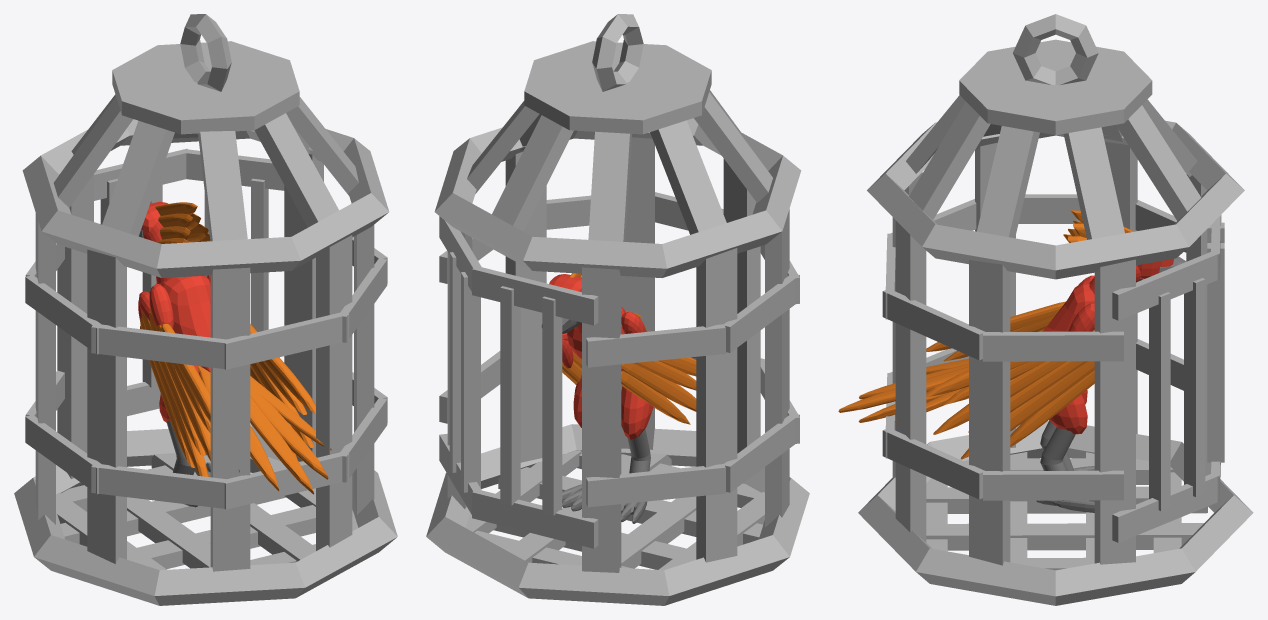
The model's file is phoenix - samuelgragg.fbx.
The picture shows the model from 3 angles, left to right: view 1: azimuth 30°, elevation 25°; view 2: azimuth 150°, elevation 25°; view 3: azimuth 270°, elevation 25°; orthographic projection.
Parts seen in each view (by area): view 1: Cube.017, Cube.043, Cube.056, Cube.059, Cube.061, Cube.055, Cube.057, Cube.060, Cube.063, Cube.062, Cube.049, Cube.058 (+3 smaller); view 2: Cube.017, Cube.047, Cube.058, Cube.060, Cube.048, Cube.062, Cylinder.002; view 3: Cube.017, Cube.059, Cube.060, Cube.058, Cylinder.002, Cube.061, Cube.043, Cube.062, Cube.047, Cube.055, Cube.063, Cube.056 (+3 smaller).
Boxes of the visible parts, bbox=[...] form: Cube.017: bbox=[14, 14, 397, 605]; Cube.043: bbox=[158, 275, 210, 372]; Cube.056: bbox=[197, 366, 328, 491]; Cube.059: bbox=[161, 323, 315, 422]; Cube.061: bbox=[149, 309, 314, 460]; Cube.055: bbox=[250, 396, 313, 494]; Cube.057: bbox=[200, 368, 331, 472]; Cube.060: bbox=[140, 314, 297, 476]; Cube.063: bbox=[157, 325, 306, 432]; Cube.062: bbox=[142, 313, 291, 456]; Cube.049: bbox=[149, 275, 210, 328]; Cube.058: bbox=[140, 325, 194, 467]; Cube.017: bbox=[426, 14, 809, 605]; Cube.047: bbox=[573, 375, 653, 439]; Cube.058: bbox=[562, 361, 690, 424]; Cube.060: bbox=[572, 350, 696, 411]; Cube.048: bbox=[562, 484, 647, 523]; Cube.062: bbox=[633, 360, 696, 390]; Cylinder.002: bbox=[627, 429, 650, 473]; Cube.017: bbox=[858, 14, 1253, 605]; Cube.059: bbox=[926, 301, 1065, 396]; Cube.060: bbox=[961, 361, 1094, 459]; Cube.058: bbox=[1010, 370, 1094, 446]; Cylinder.002: bbox=[1040, 420, 1075, 500]; Cube.061: bbox=[933, 329, 1094, 434]; Cube.043: bbox=[1042, 281, 1094, 331]; Cube.062: bbox=[968, 361, 1087, 432]; Cube.047: bbox=[1049, 390, 1087, 434]; Cube.055: bbox=[838, 366, 968, 412]; Cube.063: bbox=[943, 316, 1054, 404]; Cube.056: bbox=[858, 363, 968, 422].
Size of the model in its own units: 312 by 450 by 328.
